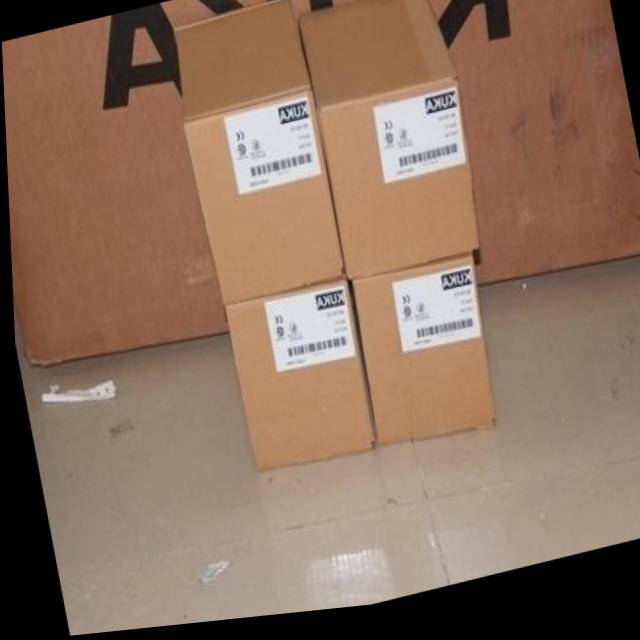box: (173, 2, 343, 310), (298, 0, 477, 290), (222, 284, 372, 476), (347, 261, 493, 453)
